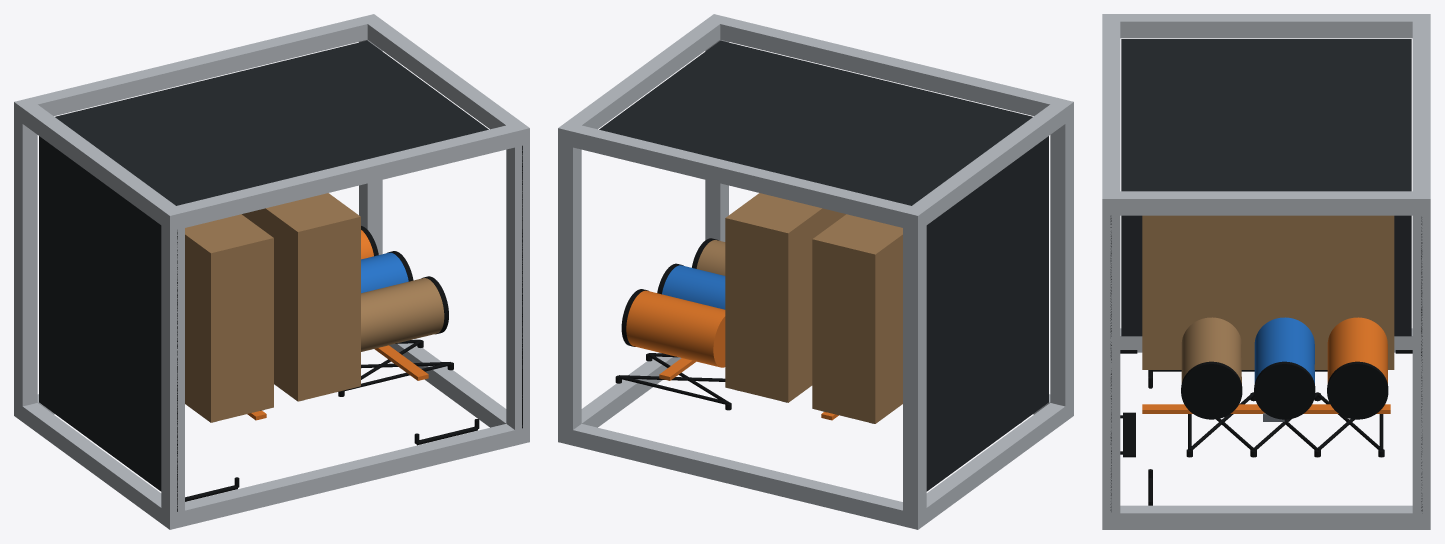
3 renders of one model, left to right at view 1: azimuth 30°, elevation 25°; view 2: azimuth 150°, elevation 25°; view 3: azimuth 270°, elevation 25°, orthographic. The views are drawn at different scales.
Parts seen in each view (by area): view 1: BACK_INFILL_PANEL, LEFT_INFILL_PANEL, FOLDED_FURNITURE_2, FOLDED_FURNITURE_1, FRAME_WIDTH_RAIL_08, FRAME_WIDTH_RAIL_06, FRAME_WIDTH_RAIL_07, FRAME_DEPTH_RAIL_10, FRAME_DEPTH_RAIL_09, FRAME_DEPTH_RAIL_12, FRAME_POST_02, FRAME_POST_01 (+6 smaller); view 2: BACK_INFILL_PANEL, LEFT_INFILL_PANEL, FOLDED_FURNITURE_2, FOLDED_FURNITURE_1, FRAME_WIDTH_RAIL_07, FRAME_WIDTH_RAIL_05, FRAME_WIDTH_RAIL_08, FRAME_DEPTH_RAIL_09, FRAME_DEPTH_RAIL_11, FRAME_DEPTH_RAIL_10, ROLLED_SOFT_GOOD_1, FRAME_POST_02 (+6 smaller); view 3: BACK_INFILL_PANEL, FOLDED_FURNITURE_2, FRAME_POST_04, FRAME_POST_03, FRAME_POST_02, FRAME_DEPTH_RAIL_11, FRAME_DEPTH_RAIL_12, LEFT_INFILL_PANEL, FRAME_WIDTH_RAIL_07, FRAME_WIDTH_RAIL_08, ROLL_END_CAP, ROLL_END_CAP_02 (+7 smaller).
Boxes of the visible parts, bbox=[...] form: BACK_INFILL_PANEL: bbox=[55, 40, 488, 205]; LEFT_INFILL_PANEL: bbox=[39, 136, 161, 491]; FOLDED_FURNITURE_2: bbox=[242, 193, 360, 401]; FOLDED_FURNITURE_1: bbox=[185, 214, 273, 422]; FRAME_WIDTH_RAIL_08: bbox=[177, 125, 514, 227]; FRAME_WIDTH_RAIL_06: bbox=[185, 424, 514, 526]; FRAME_WIDTH_RAIL_07: bbox=[29, 17, 367, 115]; FRAME_DEPTH_RAIL_10: bbox=[161, 225, 184, 513]; FRAME_DEPTH_RAIL_09: bbox=[14, 118, 37, 406]; FRAME_DEPTH_RAIL_12: bbox=[506, 144, 529, 429]; FRAME_POST_02: bbox=[14, 98, 184, 231]; FRAME_POST_01: bbox=[14, 400, 184, 529]; BACK_INFILL_PANEL: bbox=[599, 40, 1032, 205]; LEFT_INFILL_PANEL: bbox=[926, 136, 1048, 491]; FOLDED_FURNITURE_2: bbox=[725, 193, 845, 402]; FOLDED_FURNITURE_1: bbox=[812, 214, 902, 423]; FRAME_WIDTH_RAIL_07: bbox=[573, 125, 910, 227]; FRAME_WIDTH_RAIL_05: bbox=[573, 424, 902, 526]; FRAME_WIDTH_RAIL_08: bbox=[720, 17, 1058, 115]; FRAME_DEPTH_RAIL_09: bbox=[903, 225, 926, 513]; FRAME_DEPTH_RAIL_11: bbox=[558, 144, 581, 429]; FRAME_DEPTH_RAIL_10: bbox=[1050, 118, 1073, 406]; ROLLED_SOFT_GOOD_1: bbox=[626, 290, 725, 367]; FRAME_POST_02: bbox=[903, 98, 1073, 231]; BACK_INFILL_PANEL: bbox=[1121, 39, 1411, 191]; FOLDED_FURNITURE_2: bbox=[1142, 215, 1394, 369]; FRAME_POST_04: bbox=[1102, 191, 1430, 215]; FRAME_POST_03: bbox=[1102, 505, 1430, 529]; FRAME_POST_02: bbox=[1102, 14, 1430, 38]; FRAME_DEPTH_RAIL_11: bbox=[1412, 215, 1430, 513]; FRAME_DEPTH_RAIL_12: bbox=[1102, 215, 1120, 513]; LEFT_INFILL_PANEL: bbox=[1121, 215, 1411, 336]; FRAME_WIDTH_RAIL_07: bbox=[1412, 21, 1430, 191]; FRAME_WIDTH_RAIL_08: bbox=[1102, 21, 1120, 191]; ROLL_END_CAP: bbox=[1327, 361, 1388, 419]; ROLL_END_CAP_02: bbox=[1254, 361, 1315, 419].
Bounding box in the file's own units: 60.96 × 50.8 × 45.72.
